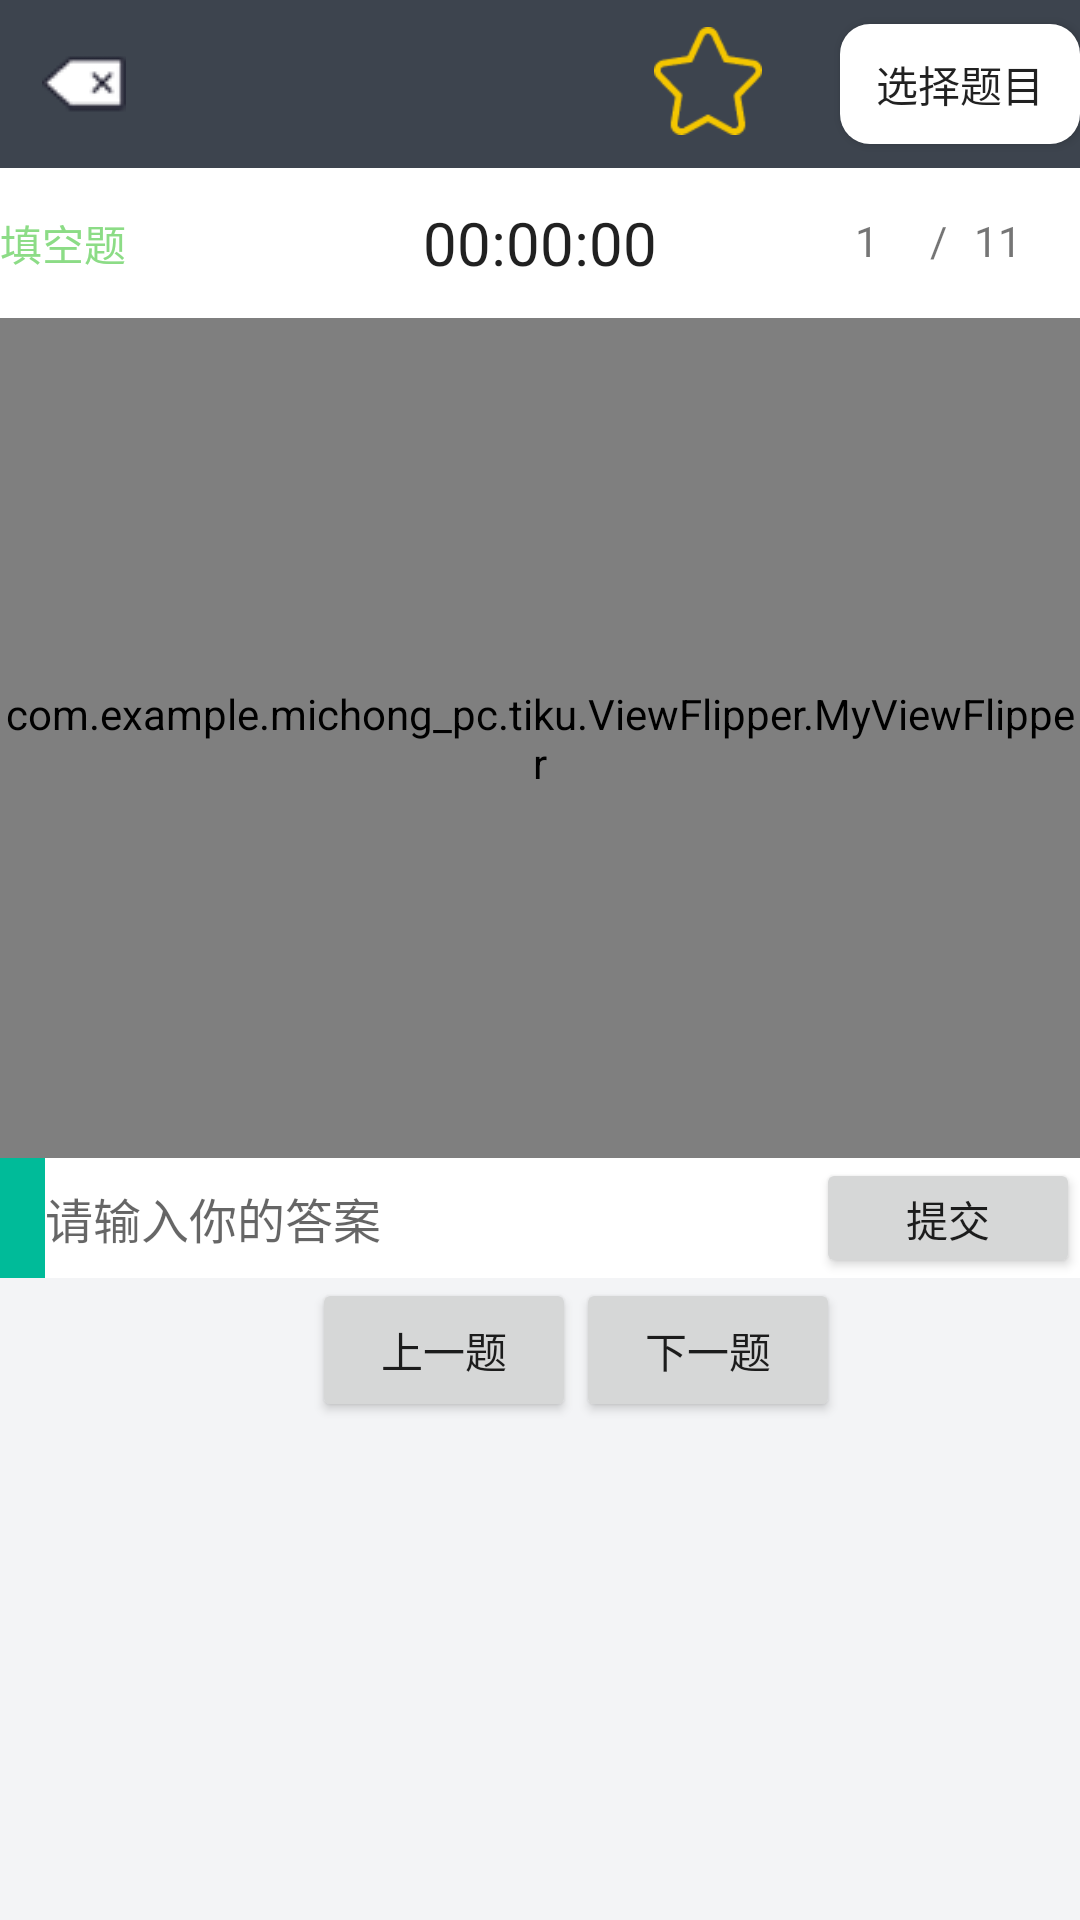

Point at icon controls on the screen. Image size 1080x1920, points as (x,y).
no start: (708,81)
